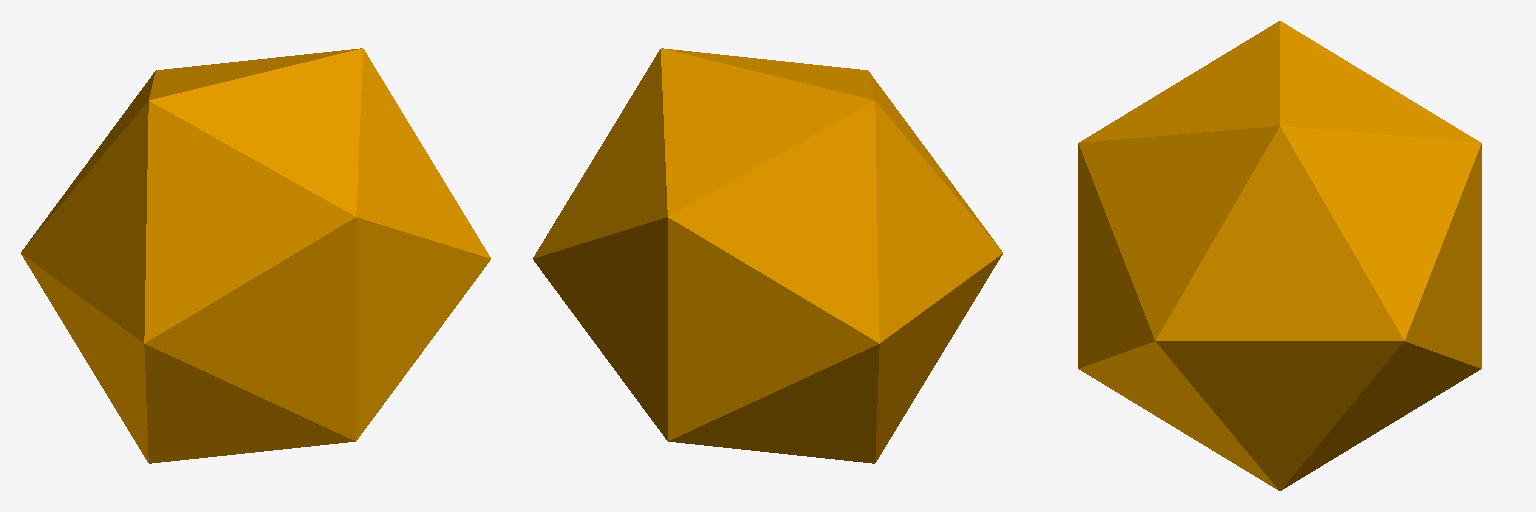
robot.urdf — Icosahedron:
<?xml version="1.0" ?>
<robot xmlns:xacro="http://www.ros.org/wiki/xacro" name="Icosahedron">

    <link name="Icosahedron">
        <inertial>
            <origin xyz="0.0 0.0 0.004" rpy="0 0 0"/>
            <mass value="2.4"/>
            <inertia ixx="0.05" ixy="0.0" ixz="0.0" iyy="0.05" iyz="0.0" izz="0.1"/>
        </inertial>

        <visual>
            <origin xyz="0.0 0.0 0.0" rpy="0.0 0.0 0.0"/>
            <geometry>
                <mesh filename="./meshes/Icosahedron/Icosahedron.obj" scale="1 1 1"/>
            </geometry>
        </visual>

        <collision>
            <origin xyz="0.0 0.0 0.004" rpy="0.0 0.0 0.0"/>
            <geometry>
                <mesh filename="./meshes/Icosahedron/Icosahedron.obj" scale="1 1 1"/>
            </geometry>
        </collision>
    </link>

</robot>

--- What the picture shows (computed from the rendered views, not written in the file) ---
The picture shows the robot from 3 angles, left to right: view 1: azimuth 30°, elevation 25°; view 2: azimuth 150°, elevation 25°; view 3: azimuth 270°, elevation 25°; orthographic projection.
Model Icosahedron with 1 links and 0 joints (none), rooted at Icosahedron, posed every joint at zero.
Links seen in each view (by area): view 1: Icosahedron; view 2: Icosahedron; view 3: Icosahedron.
Boxes of the visible links, box(x1,y1,x2,y2) form: Icosahedron: box(21, 48, 490, 463); Icosahedron: box(533, 48, 1002, 463); Icosahedron: box(1078, 21, 1481, 490).
Bounding box of the posed robot: 0.0809 × 0.0809 × 0.0809 m (x, y, z).
1 mesh visuals loaded from 1 distinct referenced files (1 OBJ).
